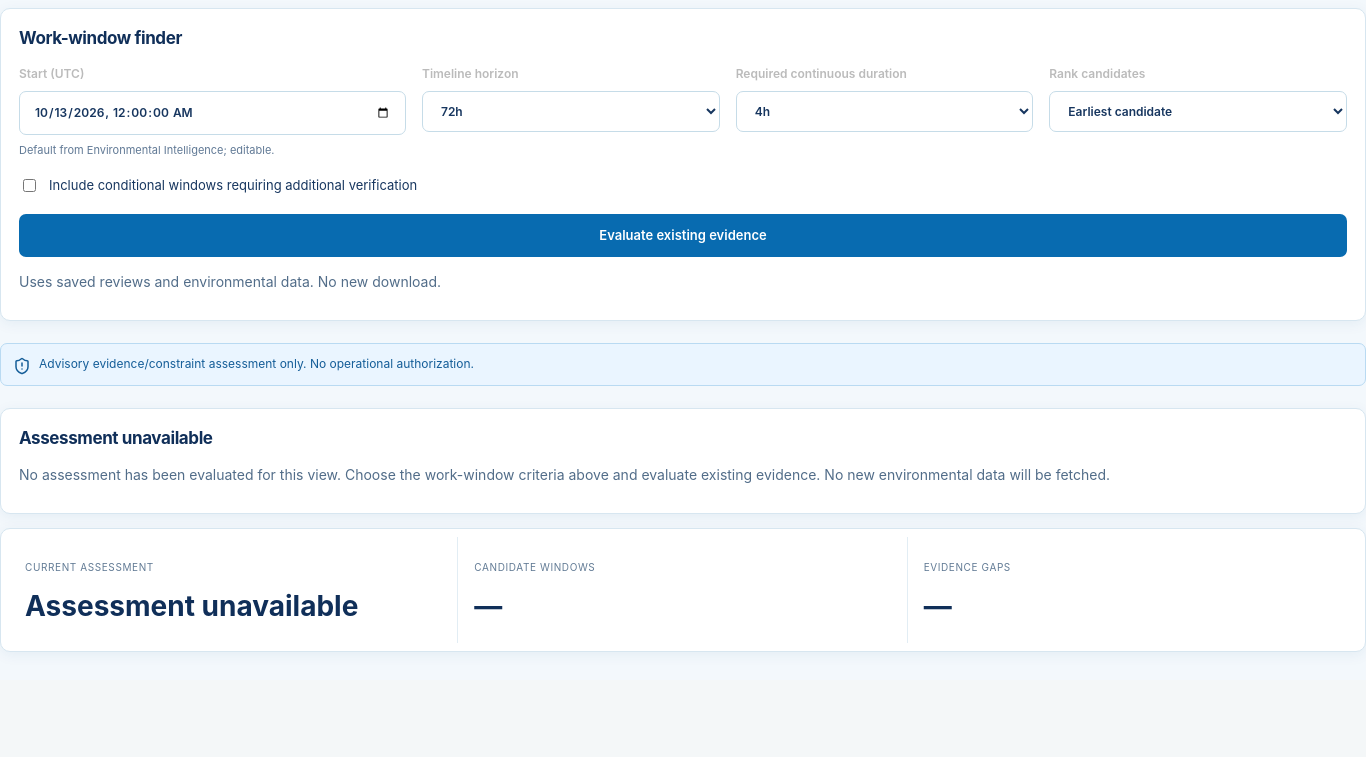
Test: returned longest ranking replaces visible candidate order, without client re-ranking
Select "2h" in the dropdown labelled "Required continuous duration". click: (884, 111)
box: [736,91,1033,132]
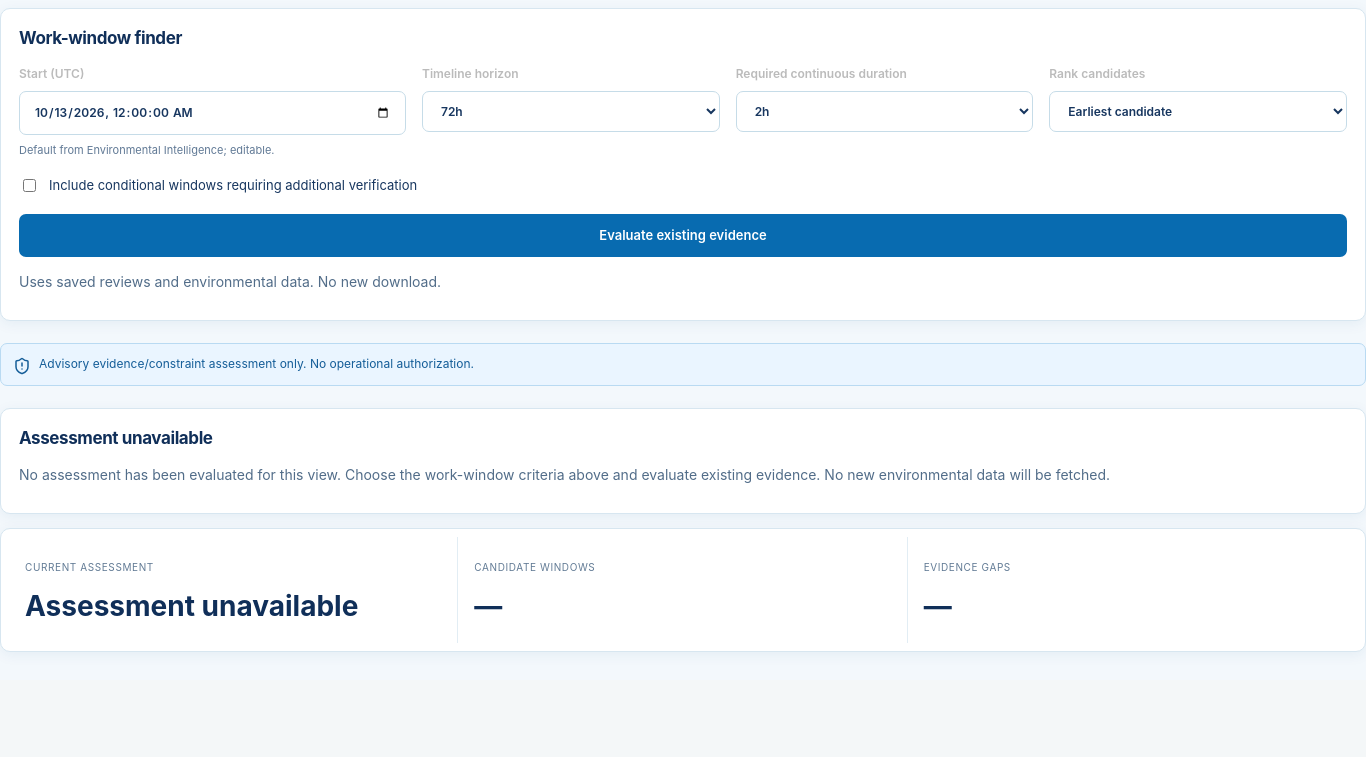
Select "24h" in the dropdown labelled "Timeline horizon". click: (571, 111)
box: [422,91,720,132]
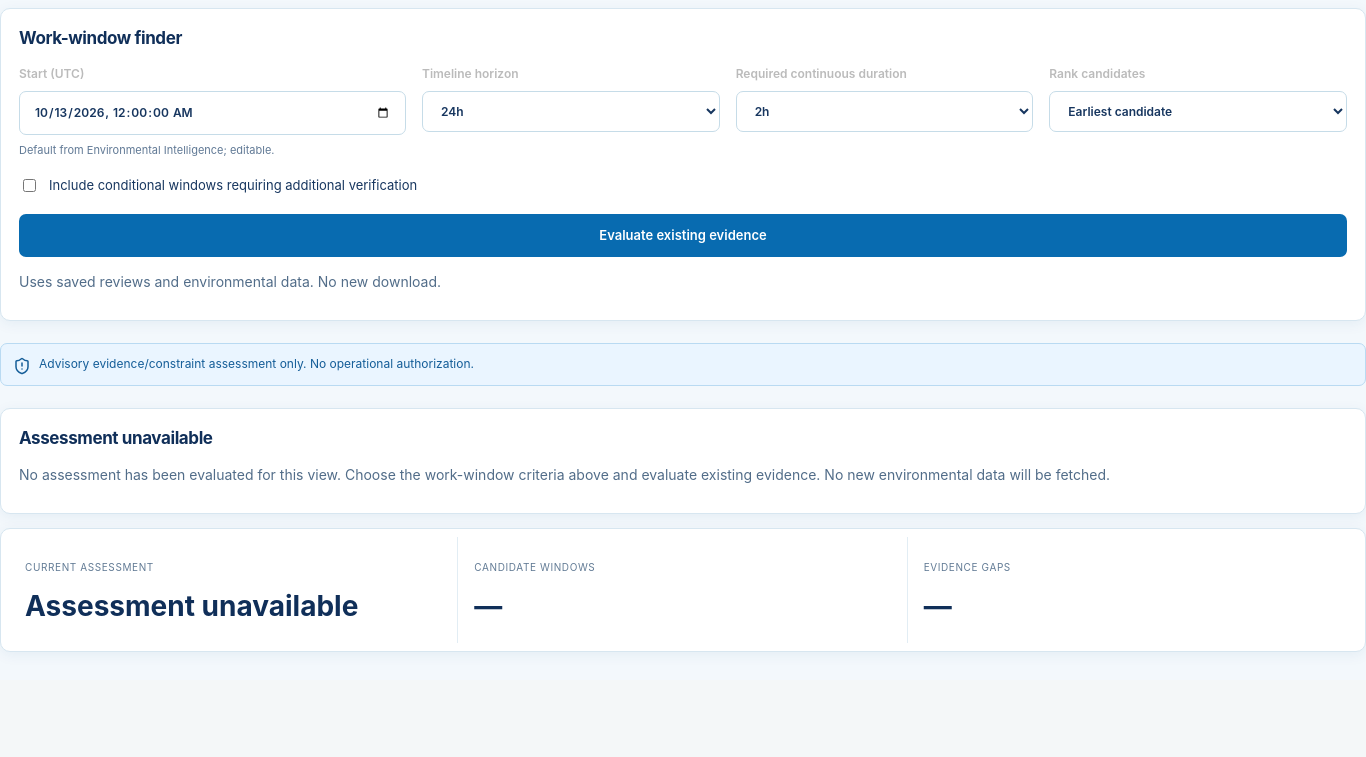
Click the button "Evaluate existing evidence". click: click(683, 235)
box: [19,214,1347,257]
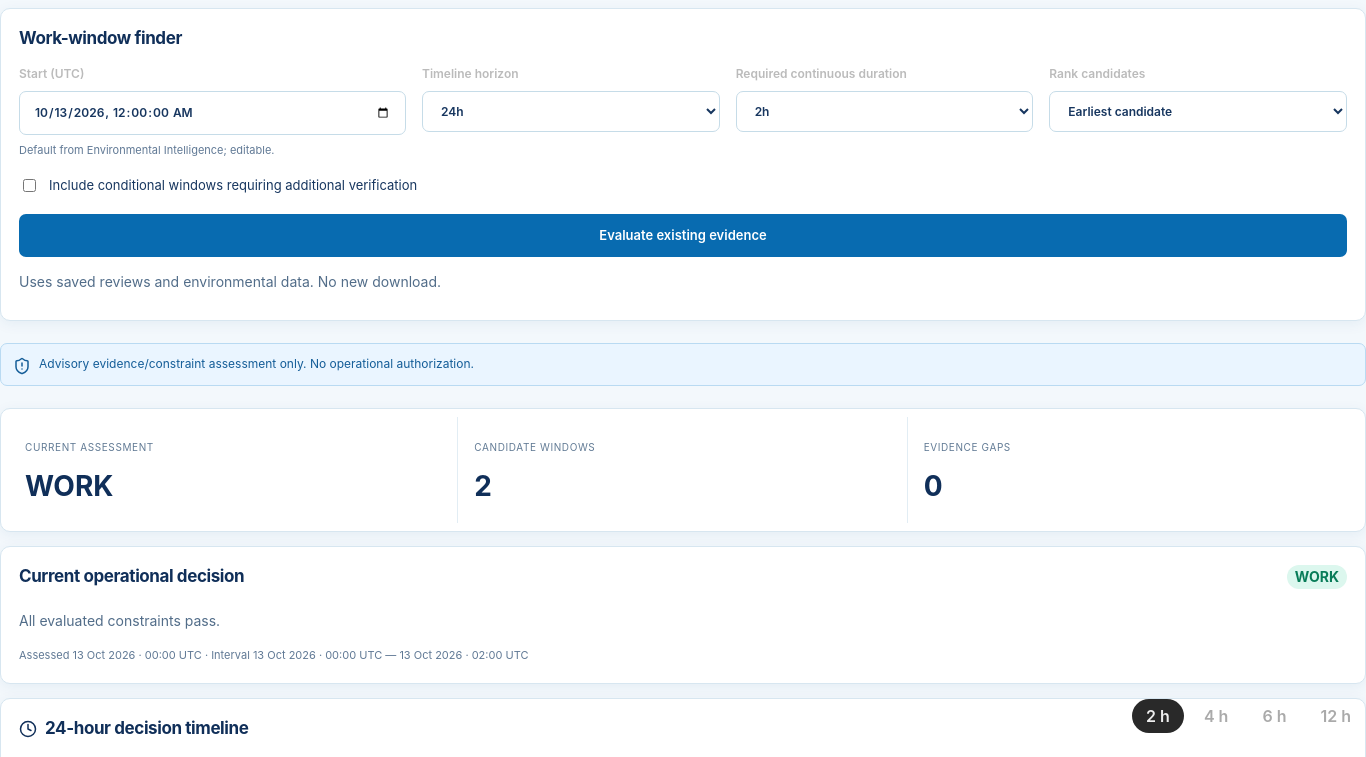
Now the heading "24-hour decision timeline" is shown, box [19,718,248,738]
Select "Longest candidate" in the dropdown labelled "Rank candidates". click: (1198, 111)
box: [1049,91,1347,132]
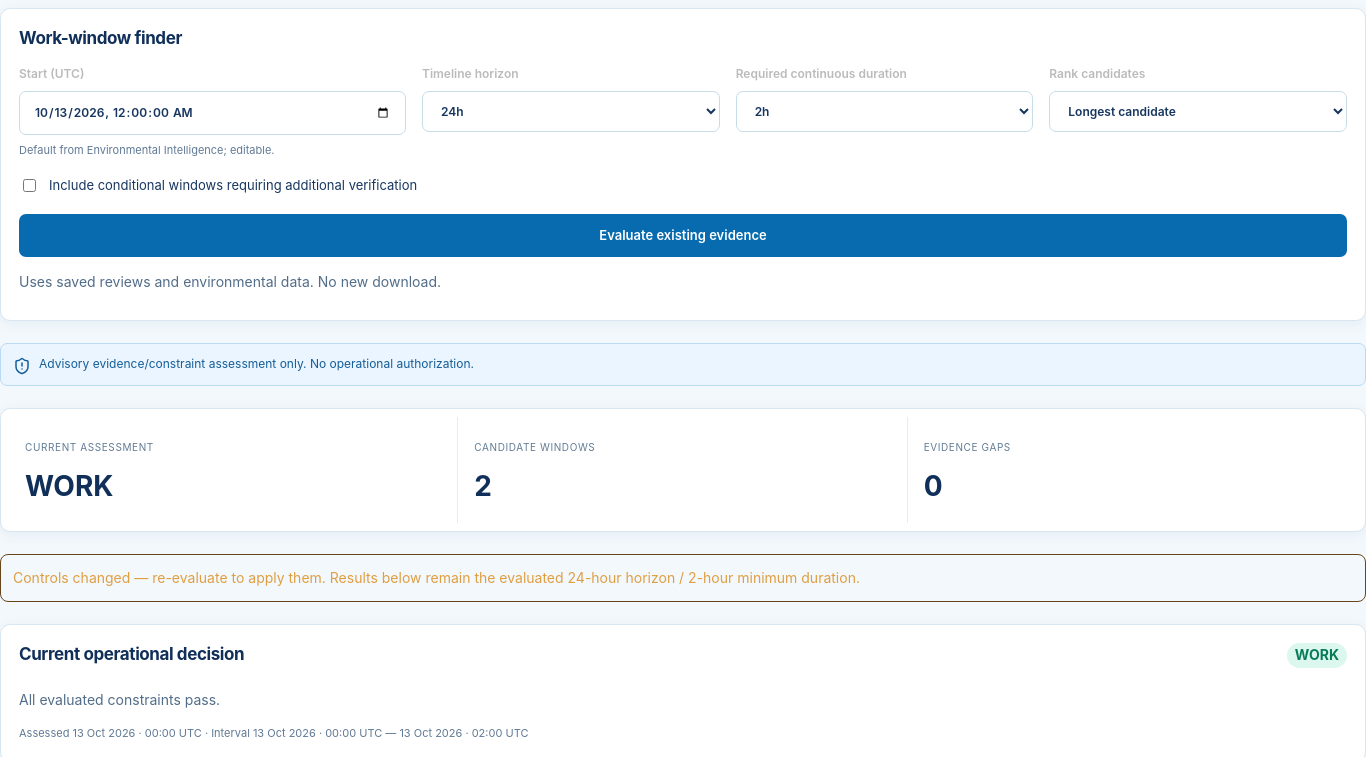
Click the button "Evaluate existing evidence". click: click(683, 235)
box: [19,214,1347,257]
(page scrolled)
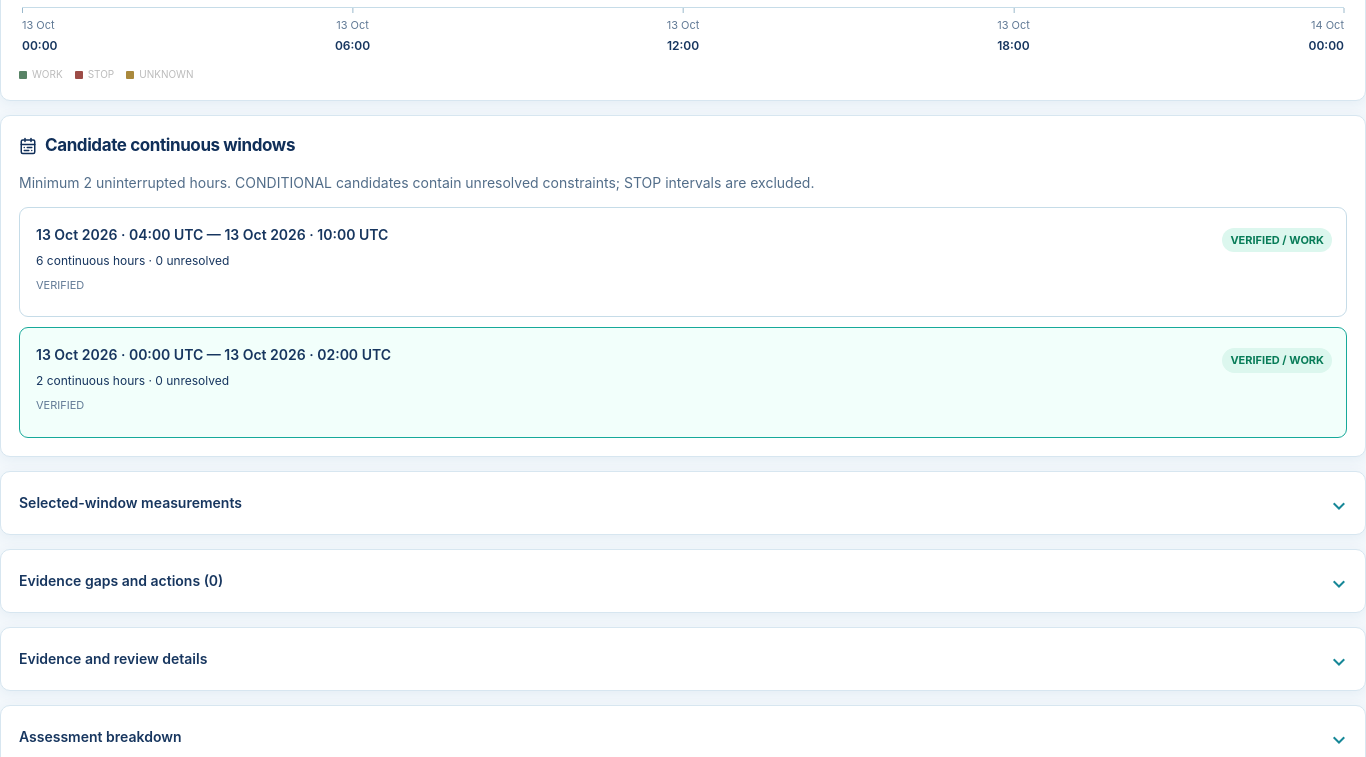
Now the 1st button shows "6 continuous hours", box [19,206,1347,317]
Now the 2nd button shows "2 continuous hours", box [19,327,1347,438]
